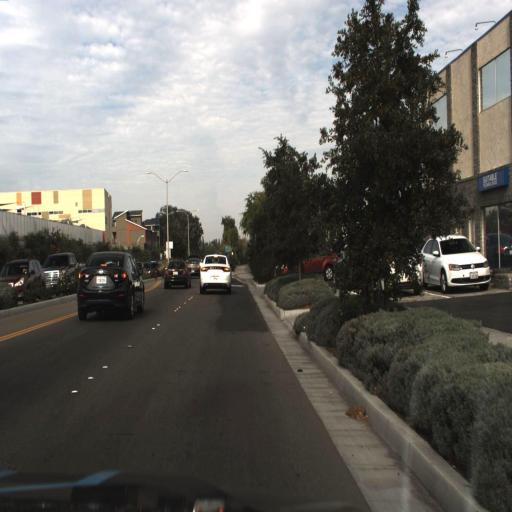car: (75, 251, 145, 325), (417, 231, 493, 294), (270, 239, 349, 282), (0, 255, 46, 310), (42, 248, 77, 299), (197, 249, 233, 297), (41, 252, 78, 286), (163, 254, 193, 293)
